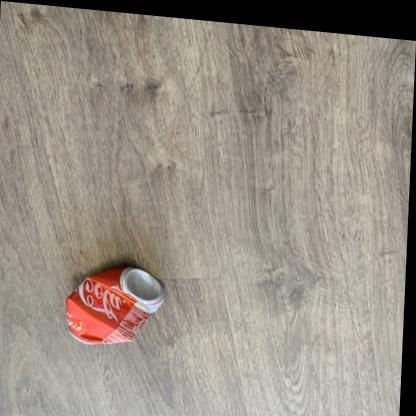trash: (66, 267, 163, 343)
